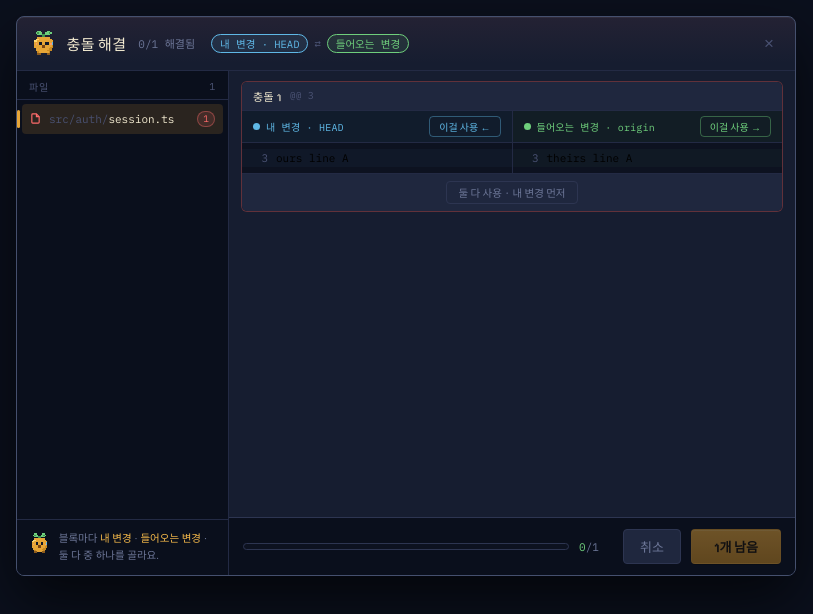
Test: ConflictEditorModal — 실 IPC 배선 › continueMerge가 conflict 잔존을 반환하면 안내 후 다시 로드한다
Check: the text "session.ts" is shown, box [108,112,174,126]
Click the button "이걸 사용 ←": (465, 126) [429,116,500,137]
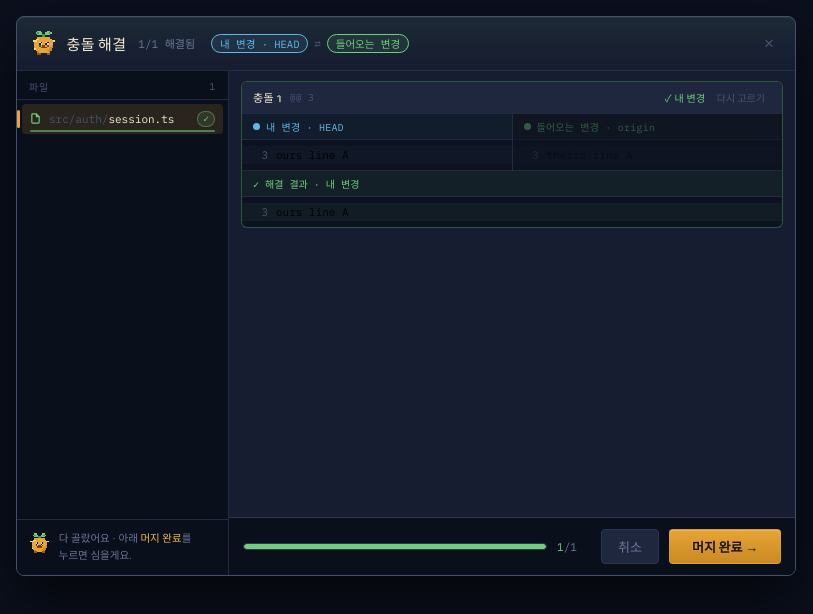
Click the button "머지 완료 →": (725, 546) [669,529,781,564]
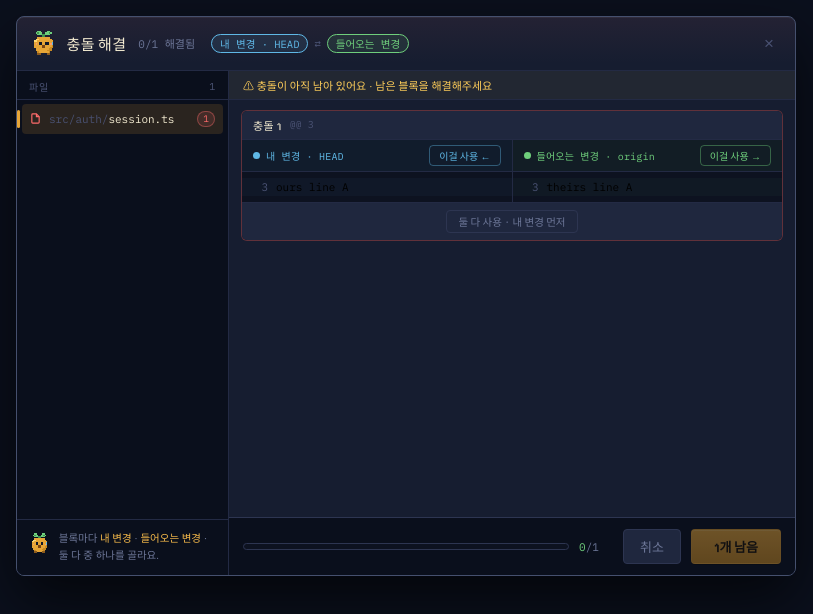
Check: the text "⚠ 충돌이 아직 남아 있어요 · 남은 블록을 해결해주세요" is shown, box [229,71,795,100]
